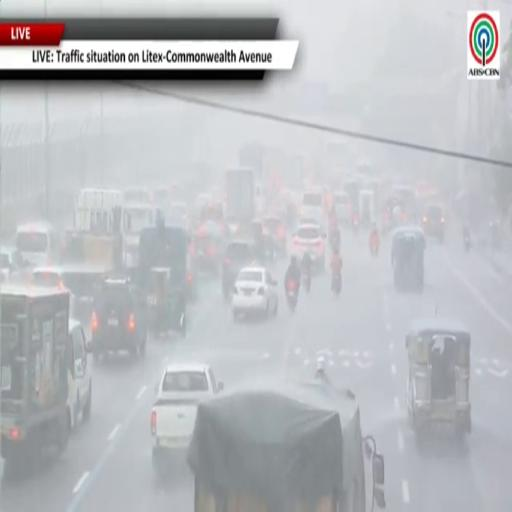car: (151, 363, 223, 477), (91, 277, 147, 361), (68, 318, 92, 429), (232, 266, 278, 318), (222, 239, 256, 299), (293, 223, 326, 269), (0, 246, 28, 282), (262, 215, 287, 255), (423, 204, 444, 242), (301, 189, 324, 218), (333, 191, 351, 225)
jeepney: (406, 317, 471, 435)
motorcycle: (286, 280, 298, 312), (331, 272, 341, 296), (303, 267, 311, 293), (352, 213, 360, 235), (370, 240, 378, 257), (464, 235, 471, 252)
truck: (187, 379, 385, 511), (0, 284, 71, 478), (61, 188, 130, 305), (225, 167, 255, 221)
